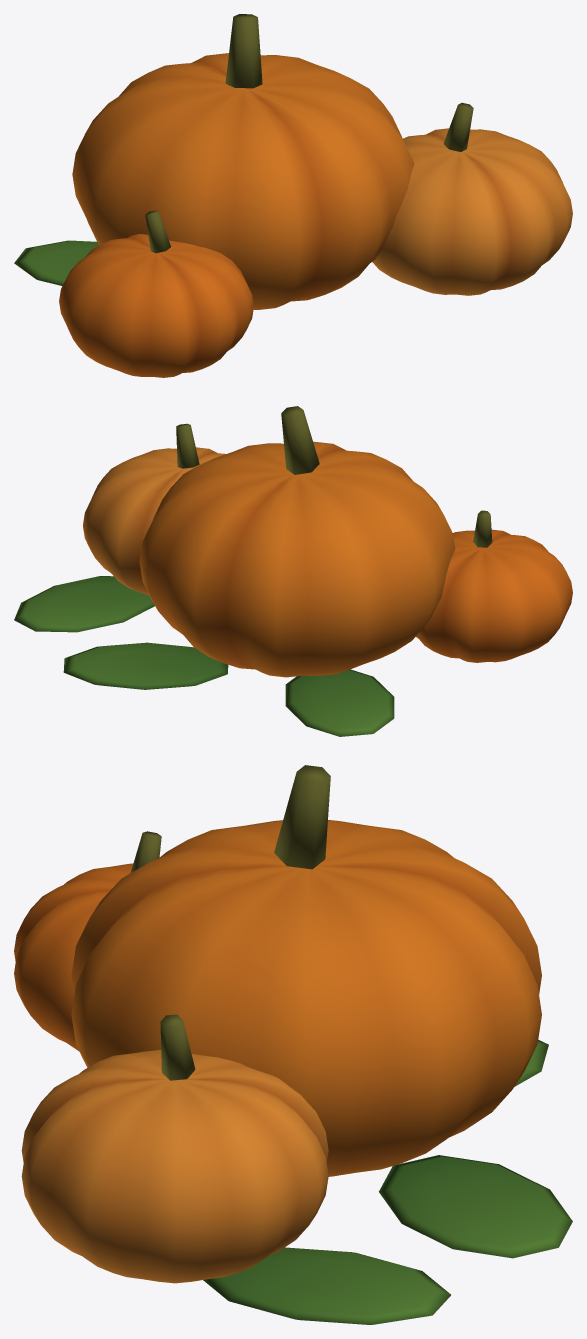
File: pumpkins.glb
The picture shows the model from 3 angles, top to bottom: view 1: azimuth 30°, elevation 25°; view 2: azimuth 150°, elevation 25°; view 3: azimuth 270°, elevation 25°; orthographic projection. The views are drawn at different scales.
Parts seen in each view (by area): view 1: pumpkins; view 2: pumpkins; view 3: pumpkins.
Part boxes in pixels (x1=…): pumpkins: x1=14, y1=14, x2=572, y2=377; pumpkins: x1=14, y1=406, x2=572, y2=736; pumpkins: x1=14, y1=765, x2=572, y2=1324.
Size of the model in its own units: 0.8733 by 0.445 by 0.5949.
